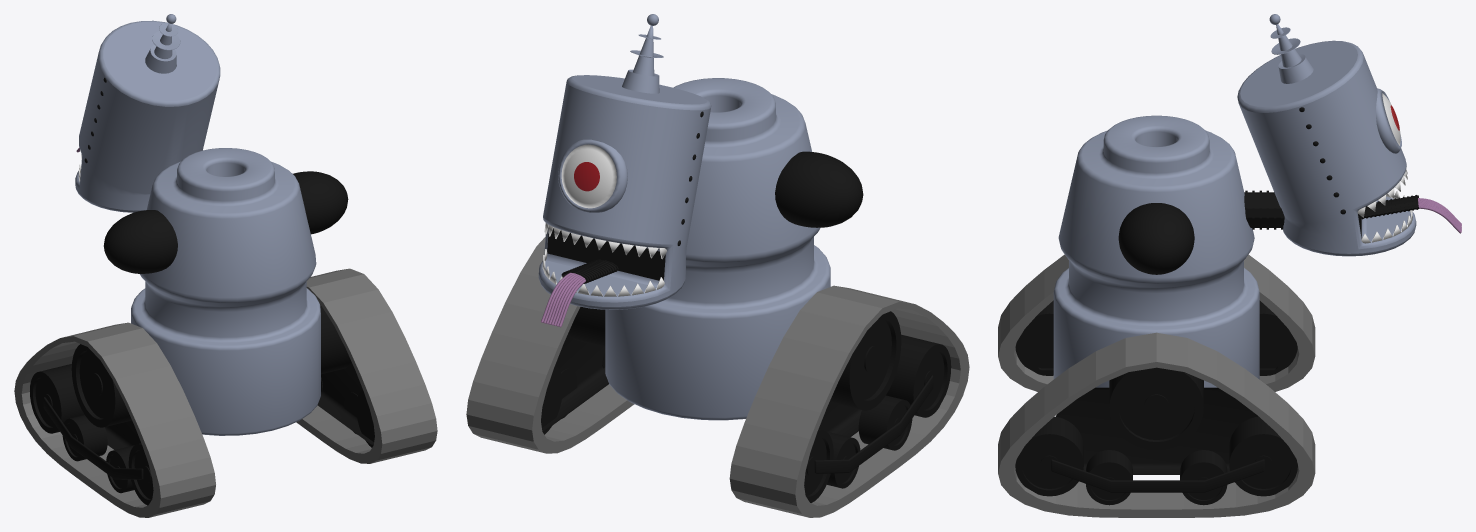
File: Robot Base.fbx
3 views of the same model, side by side, from view 1: azimuth 30°, elevation 25°; view 2: azimuth 150°, elevation 25°; view 3: azimuth 270°, elevation 25° (orthographic). The views are drawn at different scales.
Visible parts, largest first — view 1: Body.003, Tread, Head.002, Shoulder.001, Tread_cog Large, Tread_cog, Tread_plate, Tread_cog small, Tread_bar, Antenna; view 2: Body.003, Tread, Head.002, Tread_cog, Tread_cog Large, Shoulder.001, Eye.004, Tread_plate, Tread_cog small, Tread_bar, Teeth, Antenna (+2 smaller); view 3: Body.003, Tread, Head.002, Tread_cog, Tread_plate, Tread_cog Large, Shoulder.001, Tread_cog small, Tread_bar, Antenna, Neck, Eye.004 (+2 smaller).
Boxes of the visible parts, <box> form: Body.003: <box>131,148,320,435</box>; Tread: <box>14,268,437,517</box>; Head.002: <box>75,20,220,212</box>; Shoulder.001: <box>103,171,348,273</box>; Tread_cog Large: <box>71,305,351,427</box>; Tread_cog: <box>30,364,374,505</box>; Tread_plate: <box>105,362,373,449</box>; Tread_cog small: <box>62,377,357,493</box>; Tread_bar: <box>43,397,143,479</box>; Antenna: <box>145,23,180,73</box>; Body.003: <box>605,78,830,420</box>; Tread: <box>466,237,969,517</box>; Head.002: <box>538,75,711,309</box>; Tread_cog: <box>541,334,951,502</box>; Tread_cog Large: <box>568,307,901,410</box>; Shoulder.001: <box>775,151,863,227</box>; Eye.004: <box>558,139,627,212</box>; Tread_plate: <box>542,333,861,437</box>; Tread_cog small: <box>561,349,912,488</box>; Tread_bar: <box>814,375,933,473</box>; Teeth: <box>542,223,666,296</box>; Antenna: <box>622,25,663,93</box>; Body.003: <box>1053,115,1259,387</box>; Tread: <box>998,254,1315,517</box>; Head.002: <box>1237,40,1416,256</box>; Tread_cog: <box>1015,300,1297,496</box>; Tread_plate: <box>1038,367,1277,474</box>; Tread_cog Large: <box>1109,367,1203,450</box>; Shoulder.001: <box>1118,203,1194,274</box>; Tread_cog small: <box>1086,450,1227,505</box>; Tread_bar: <box>1051,459,1264,492</box>; Antenna: <box>1270,24,1313,83</box>; Neck: <box>1244,190,1284,229</box>; Eye.004: <box>1376,88,1401,153</box>.
Size of the model in its own units: 773 by 1061 by 1037.
